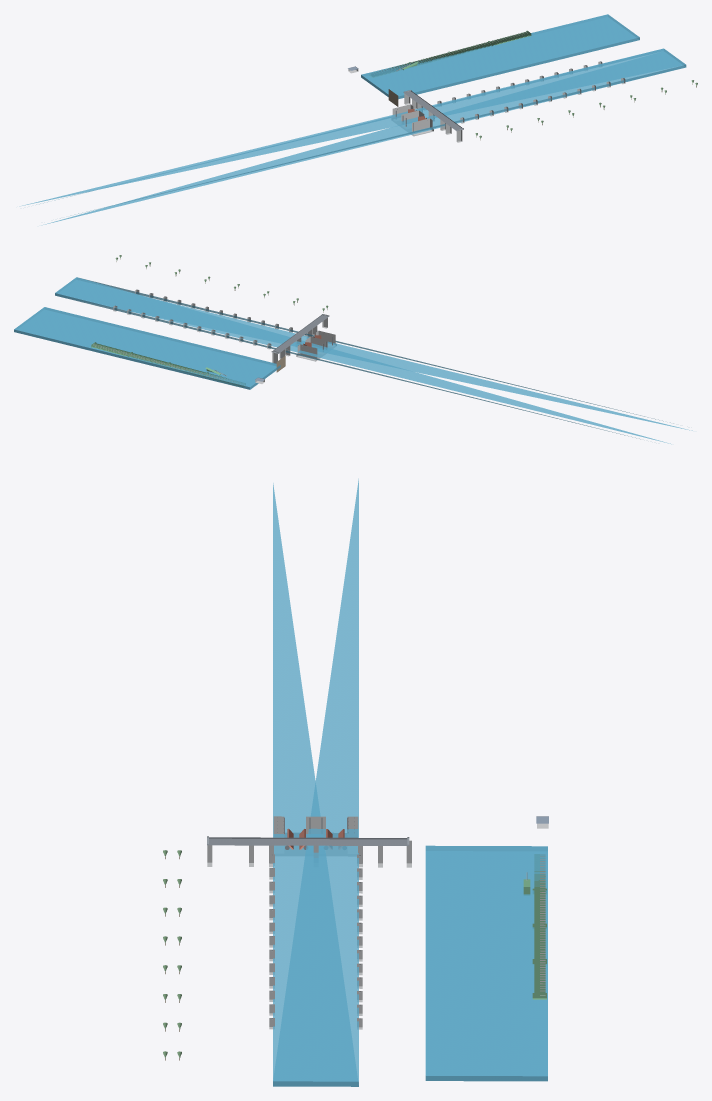
The model's file is qingnian-z6-downstream.glb.
3 views of the same model, one above another, from view 1: azimuth 30°, elevation 25°; view 2: azimuth 150°, elevation 25°; view 3: azimuth 270°, elevation 25° (orthographic). The views are drawn at different scales.
Visible parts, largest first — view 1: water_water, eco_eco, concreteLight_structure, concrete_structure, road_aux, concrete_aux; view 2: water_water, eco_eco, concrete_structure, concreteLight_structure, road_aux, concrete_aux; view 3: water_water, concrete_structure, eco_eco, road_aux, concreteLight_structure.
Part boxes in pixels (box(x1,y1,x2,y2)): water_water: box(19, 14, 686, 225); eco_eco: box(370, 30, 531, 77); concreteLight_structure: box(392, 104, 432, 135); concrete_structure: box(411, 61, 625, 130); road_aux: box(403, 91, 463, 131); concrete_aux: box(404, 93, 462, 142); water_water: box(14, 277, 692, 444); eco_eco: box(91, 342, 245, 386); concrete_structure: box(113, 289, 306, 353); concreteLight_structure: box(297, 330, 335, 360); road_aux: box(272, 314, 329, 353); concrete_aux: box(272, 318, 327, 363); water_water: box(273, 478, 547, 1086); concrete_structure: box(269, 854, 362, 1029); eco_eco: box(523, 854, 546, 999); road_aux: box(207, 837, 409, 845); concreteLight_structure: box(273, 816, 358, 853).
Bounding box in the file's own units: 2000 × 43.08 × 538.
Materials: 12 (12 with a texture image).
